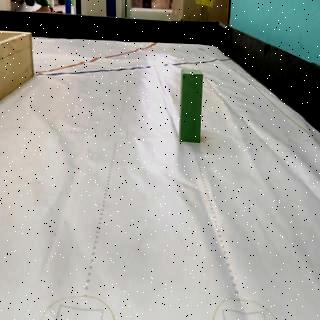greenbox: (180, 68, 206, 144)
